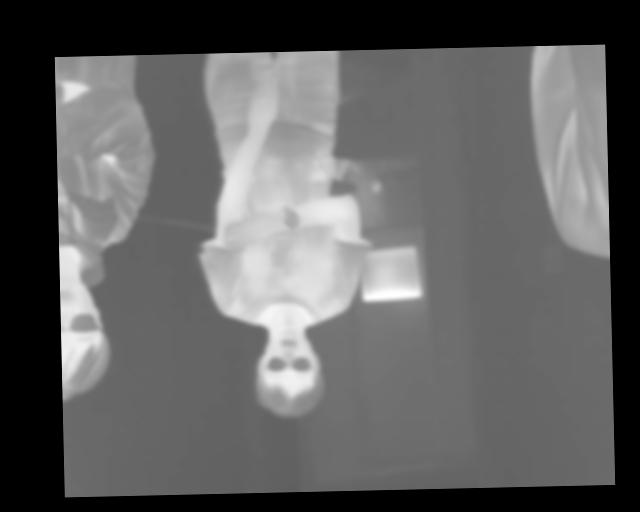face: (252, 327, 325, 419)
